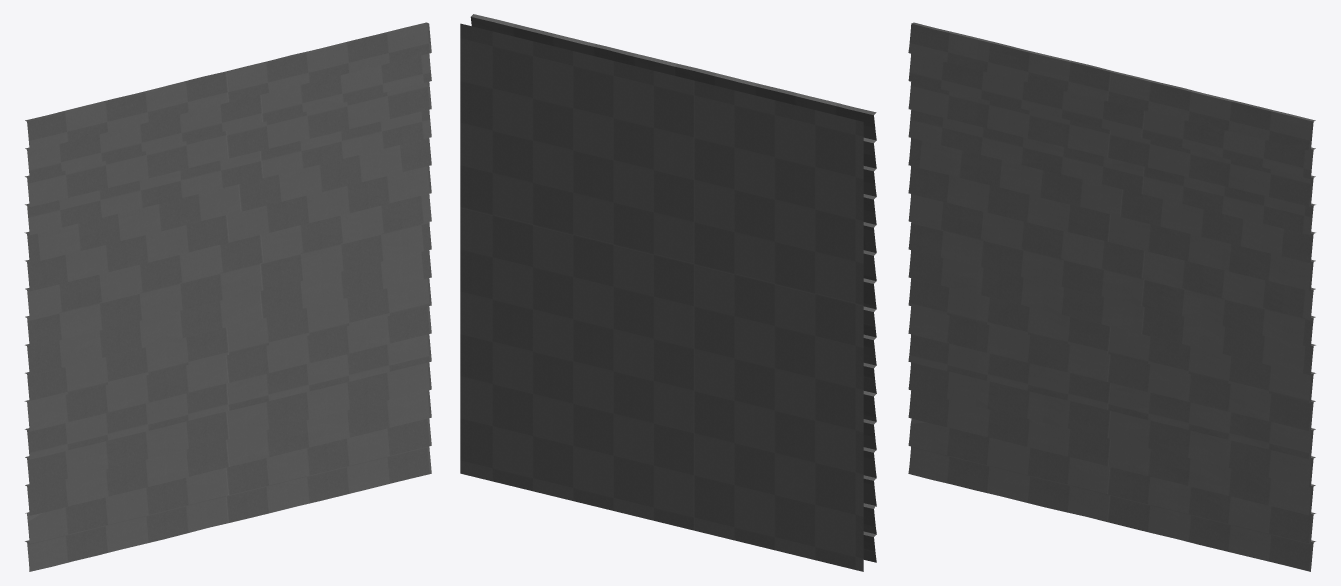
File: SM_House_ExtWall_300CM7.glb
3 renders of one model, left to right at view 1: azimuth 30°, elevation 25°; view 2: azimuth 150°, elevation 25°; view 3: azimuth 330°, elevation 25°, orthographic.
Visible parts, largest first — view 1: SM_House_ExtWall_300CM7; view 2: SM_House_ExtWall_300CM7; view 3: SM_House_ExtWall_300CM7.
Boxes of the visible parts, <box> form: SM_House_ExtWall_300CM7: <box>24,22,431,571</box>; SM_House_ExtWall_300CM7: <box>460,14,876,571</box>; SM_House_ExtWall_300CM7: <box>908,22,1315,571</box>.
Bounding box in the file's own units: 300 × 321 × 20.38.
1 material, 1 textured.
